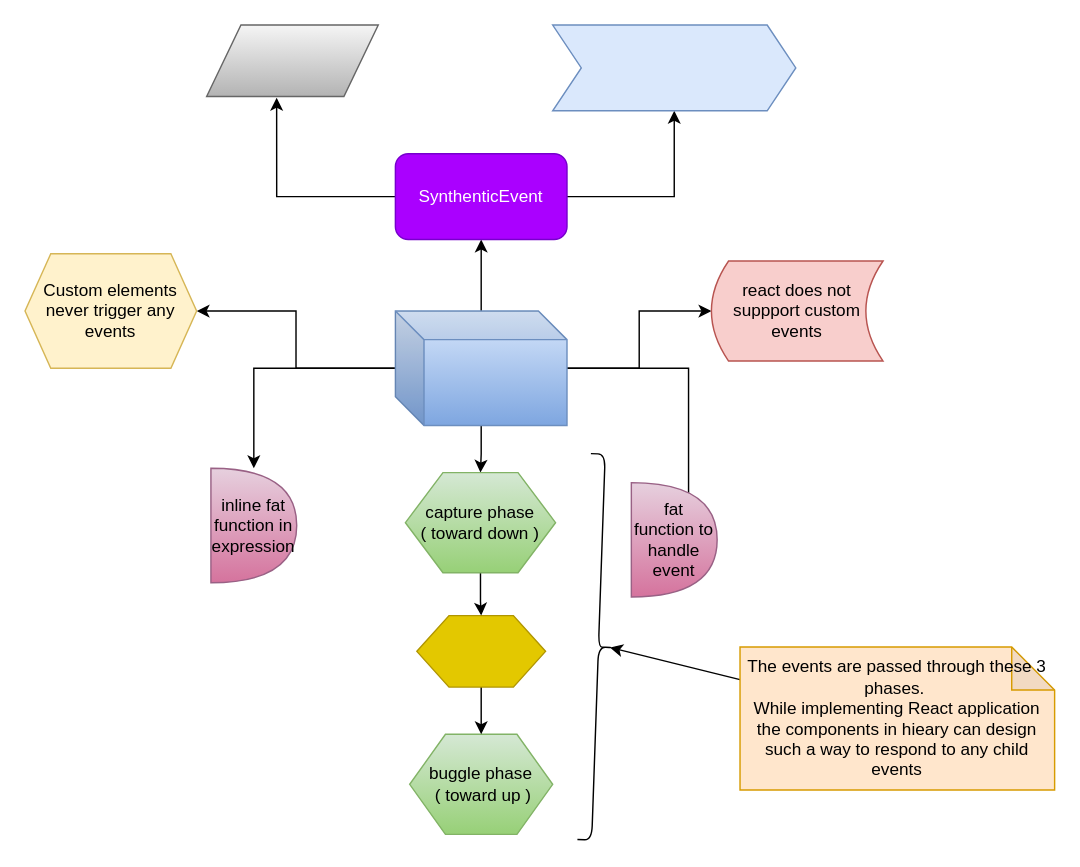
This 1080x867 diagram has some shape labels left out. The centre of each missing label's shape, as x and y in pixels:
"event types" goes at [291,60].
"persist to access event attributes in setState()" goes at [673,67].
"React Events" goes at [480,367].
"target phase" goes at [480,650].
